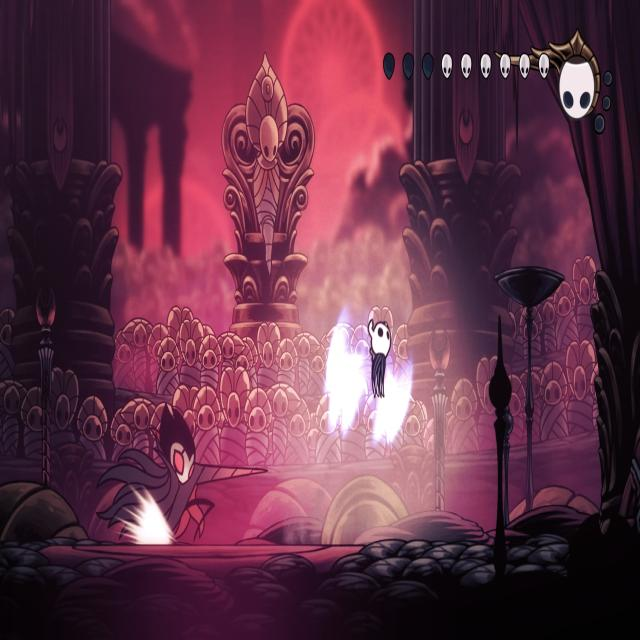Dive Dash: (92, 396, 268, 542)
Player: (364, 314, 395, 408)
